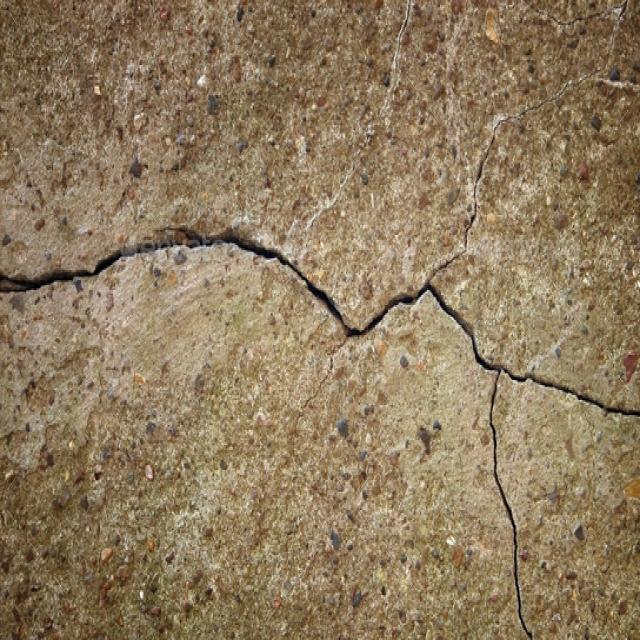Network: (474, 351, 640, 640)
Transverse: (0, 228, 470, 344)
